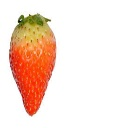strawberry: (7, 10, 57, 116)
